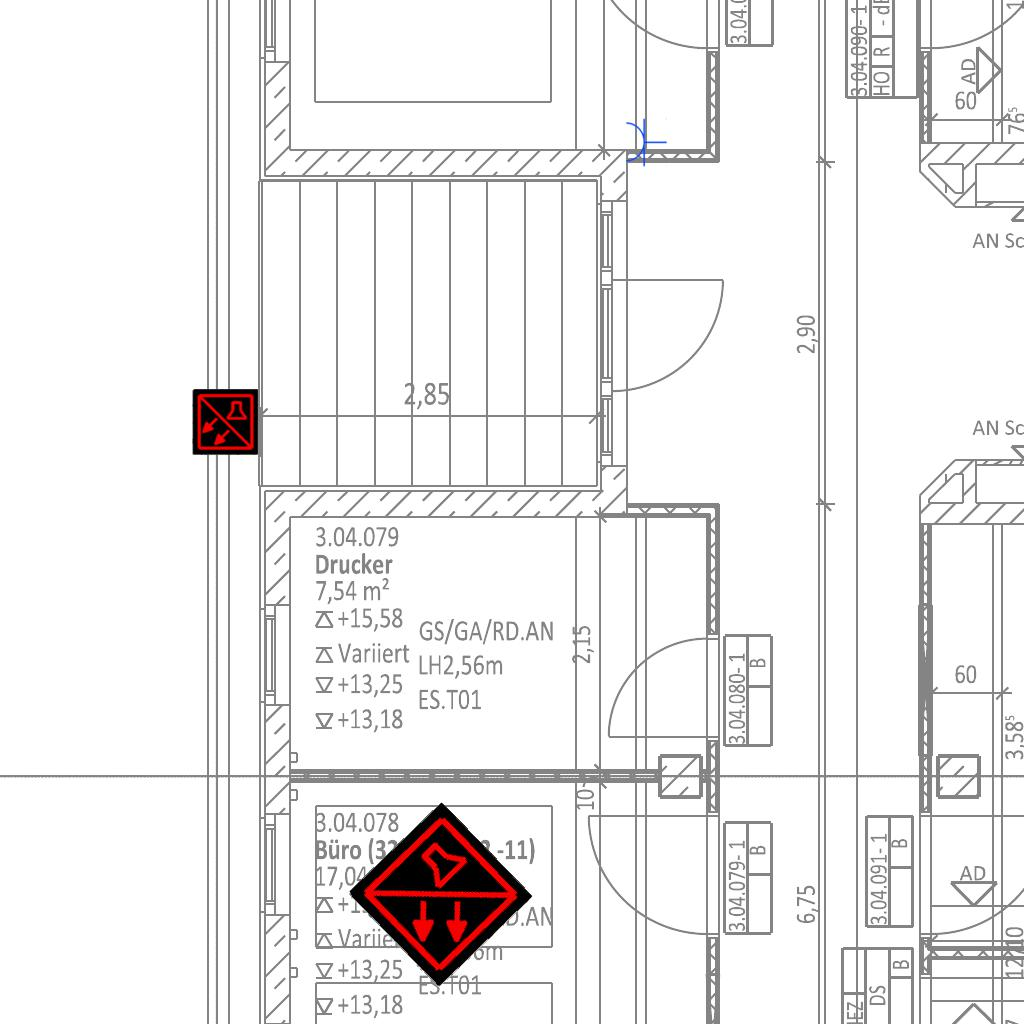OKW_Multisensormelder_(Kombination_optischer_Rauch-Kahlenmonoxid_Waerme-Melder): (346, 801, 534, 989), (192, 389, 258, 455)
Schukosteckdose_einfach: (624, 117, 667, 167)
